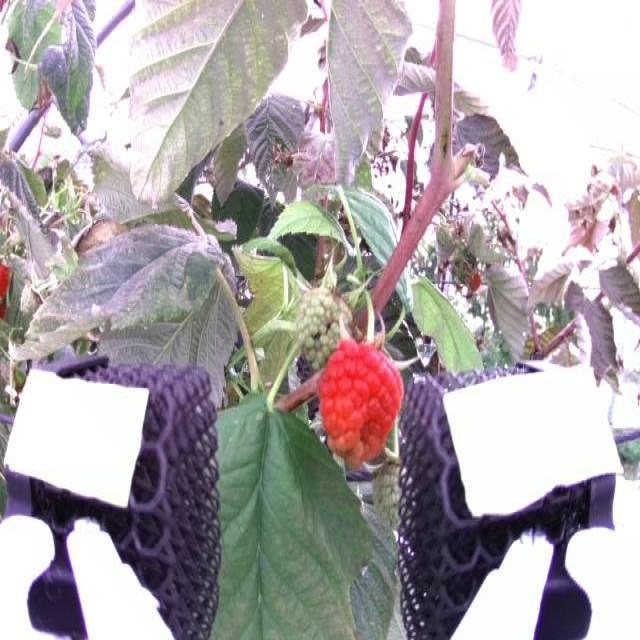Riped berries: (315, 335, 405, 468), (0, 256, 13, 317)
